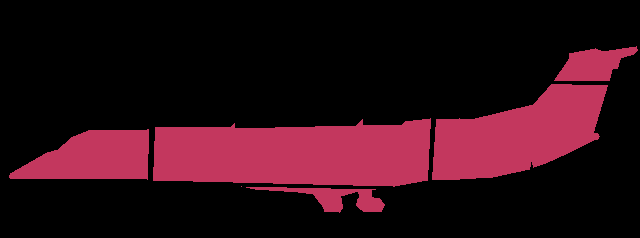Airplane: (9, 46, 637, 212)
